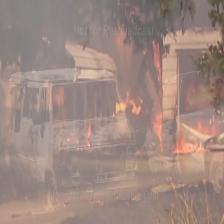fire: (101, 87, 224, 185)
